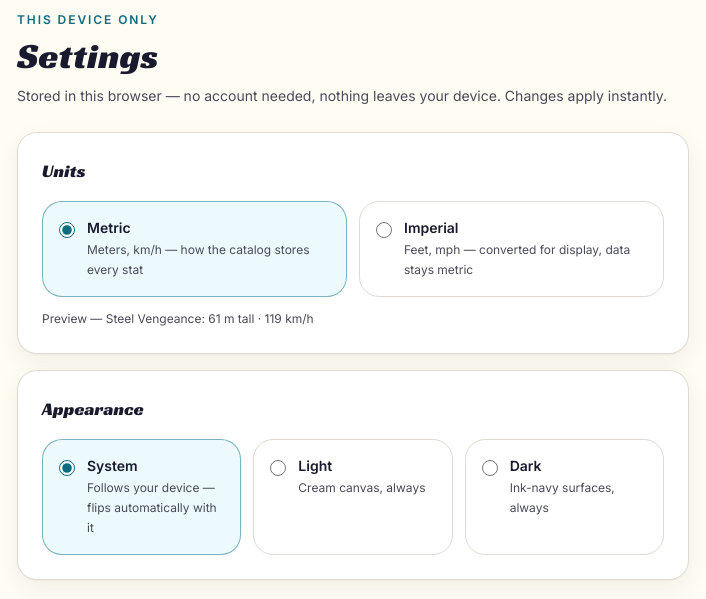
Test case: SettingsPage › switching to imperial persists and updates the preview
Click the radio button labelled "Imperial": (384, 230) x1=376 y1=222 x2=392 y2=238
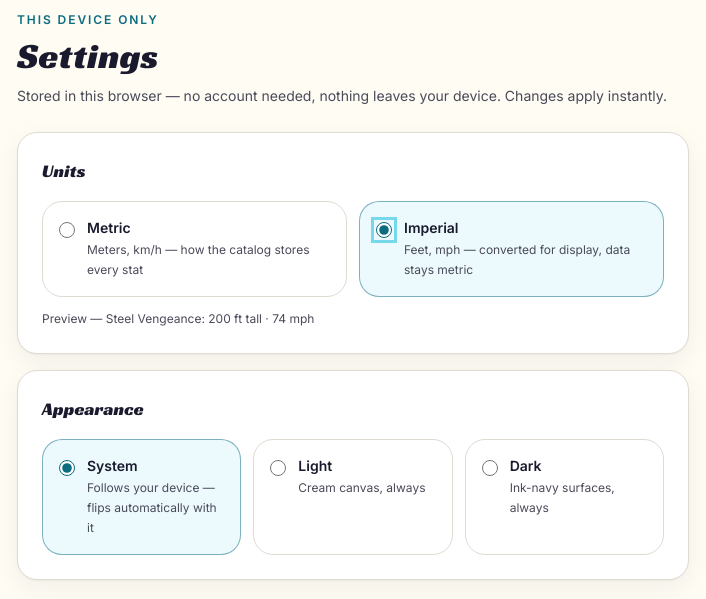
Expected: the text "Preview — Steel Vengeance: 200 ft tall · 74 mph" is shown, x1=42 y1=311 x2=314 y2=326
